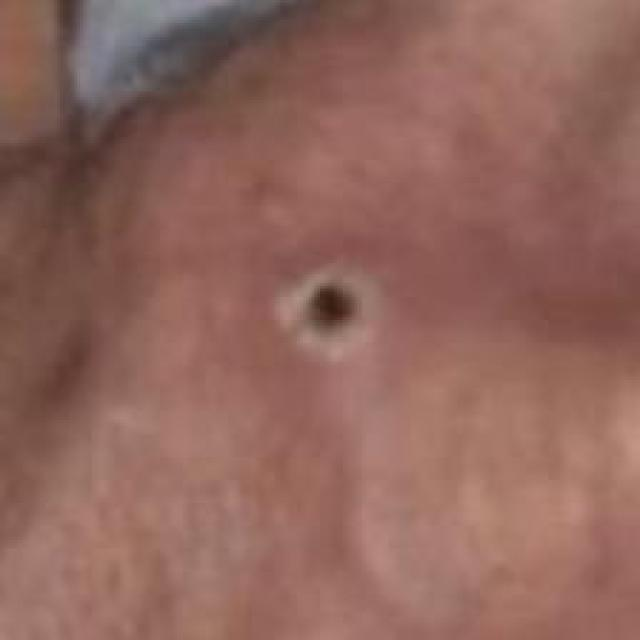monkeypox: (137, 188, 535, 530)
